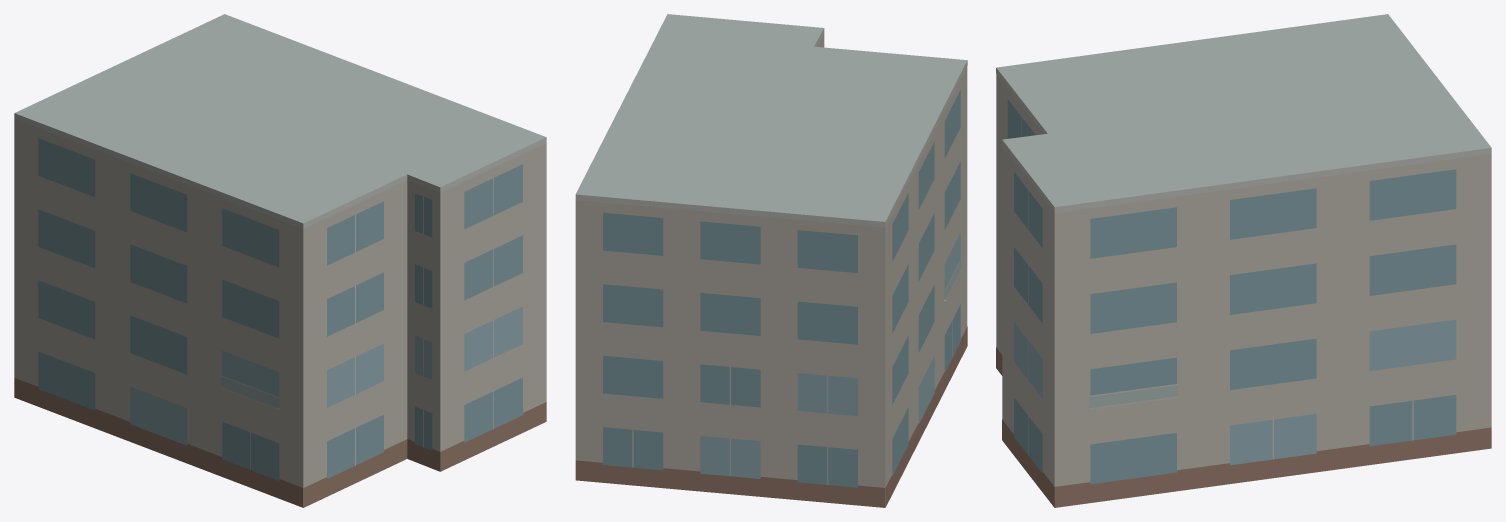
Rendered from survey-upis-32663812.glb.
3 views of the same model, side by side, from view 1: azimuth 30°, elevation 25°; view 2: azimuth 150°, elevation 25°; view 3: azimuth 270°, elevation 25° (orthographic). The views are drawn at different scales.
Parts seen in each view (by area): view 1: survey-upis-32663812.tmp; view 2: survey-upis-32663812.tmp; view 3: survey-upis-32663812.tmp.
Part boxes in pixels (<box>): survey-upis-32663812.tmp: <box>14,14,546,507</box>; survey-upis-32663812.tmp: <box>575,14,967,507</box>; survey-upis-32663812.tmp: <box>996,14,1491,507</box>.
Bounding box in the file's own units: 16.86 × 12.23 × 18.27.
